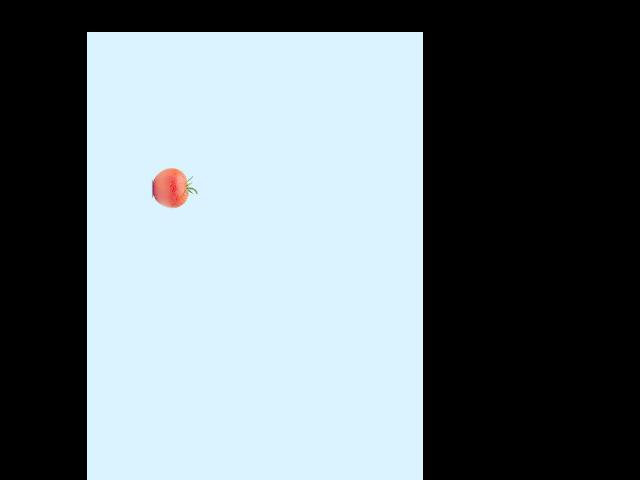tomato: (153, 167, 187, 207)
